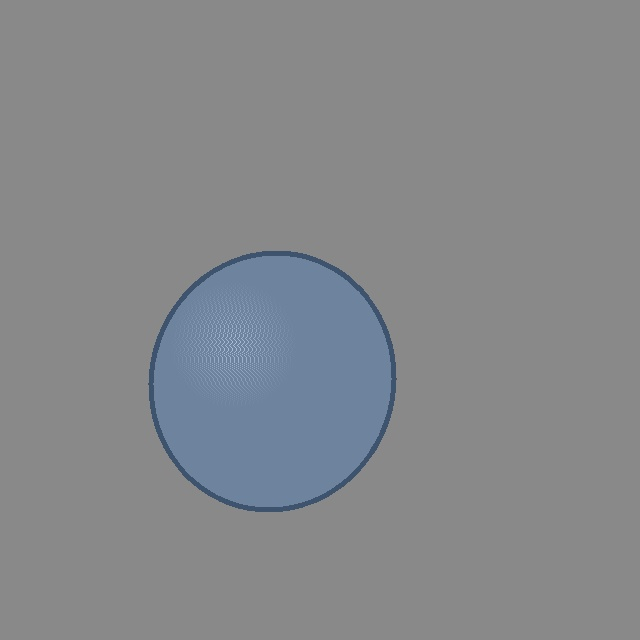lens: (150, 253, 394, 509)
